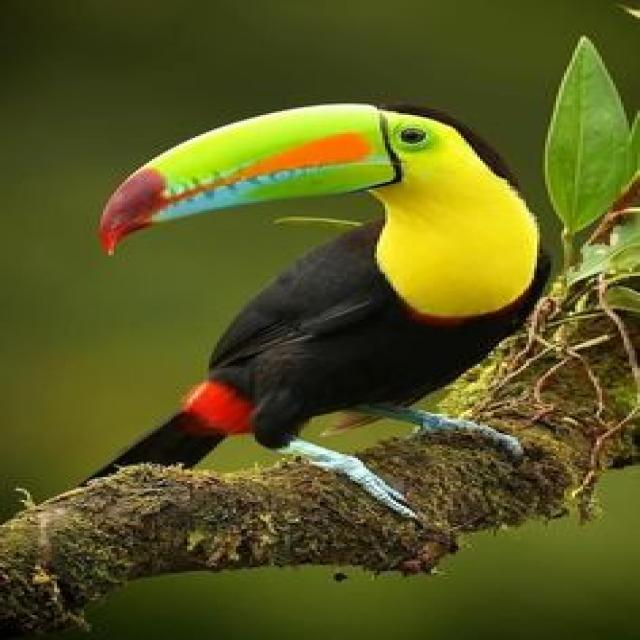Herbivorous: (98, 103, 553, 527)
